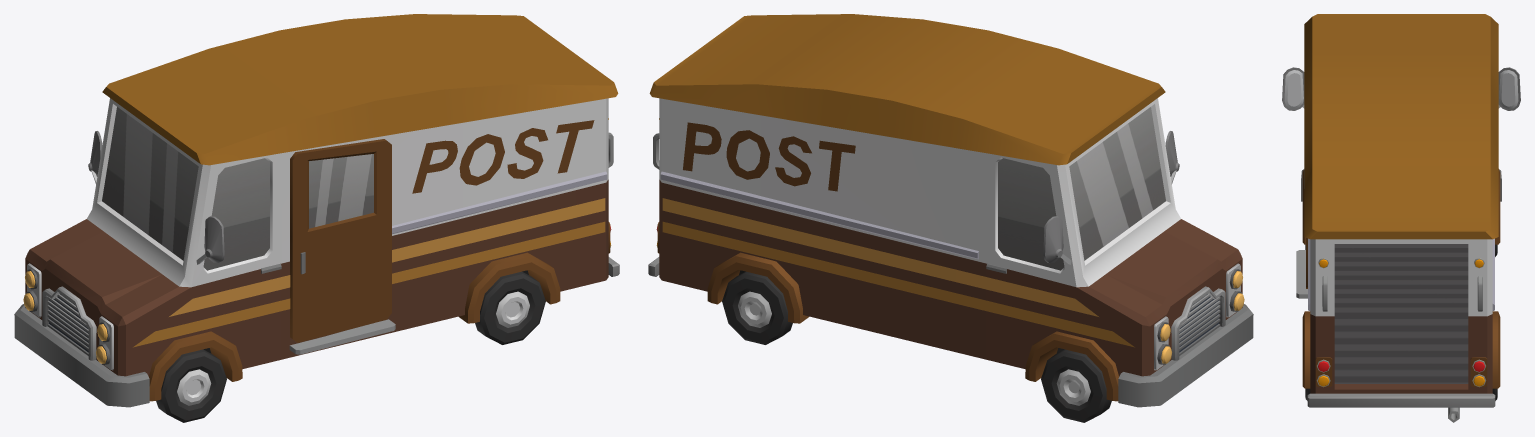
Rendered from PostCar_2_F.gltf.
3 views of the same model, side by side, from view 1: azimuth 30°, elevation 25°; view 2: azimuth 150°, elevation 25°; view 3: azimuth 270°, elevation 25° (orthographic). The views are drawn at different scales.
Parts seen in each view (by area): view 1: PostCar_2_F, FL, RL; view 2: PostCar_2_F, FR, RR; view 3: PostCar_2_F.
Part boxes in pixels (left/top/right/bottom): PostCar_2_F: left=14, top=14, right=619, bottom=407; FL: left=156, top=349, right=226, bottom=422; RL: left=475, top=271, right=545, bottom=344; PostCar_2_F: left=648, top=14, right=1253, bottom=407; FR: left=1041, top=349, right=1111, bottom=422; RR: left=722, top=271, right=792, bottom=344; PostCar_2_F: left=1282, top=14, right=1520, bottom=422.
Size of the model in its own units: 4.14 by 2.11 by 1.8.
5 materials, 5 textured.
